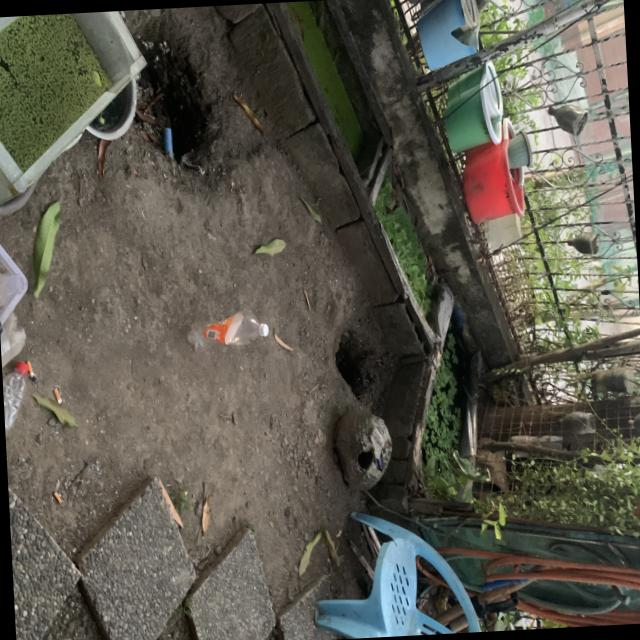Bottle: (188, 311, 269, 352)
